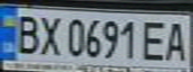0: (63, 15, 87, 57)
1: (118, 17, 142, 60)
6: (81, 16, 103, 58)
9: (100, 17, 121, 60)
A: (160, 18, 193, 63)
B: (9, 11, 42, 55)
E: (139, 18, 172, 62)
X: (33, 12, 63, 56)
